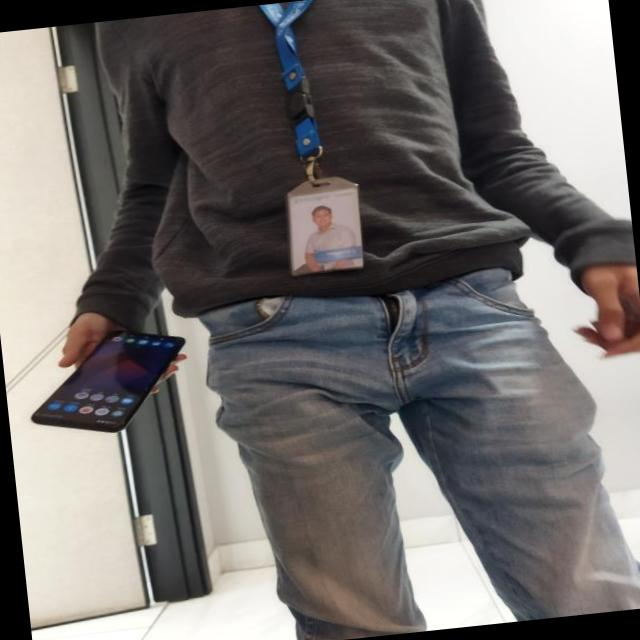id_card: (245, 0, 364, 281)
